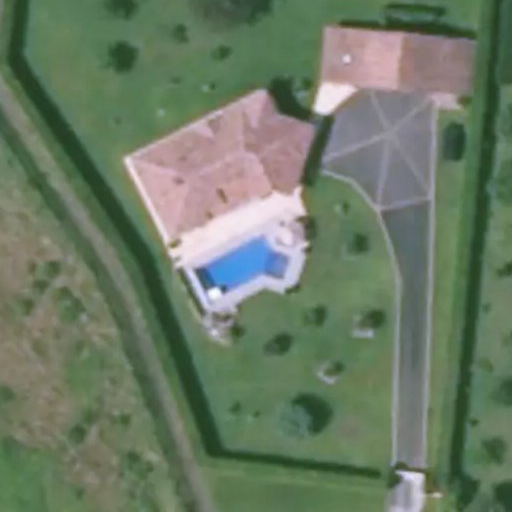pool: (199, 240, 322, 245)
